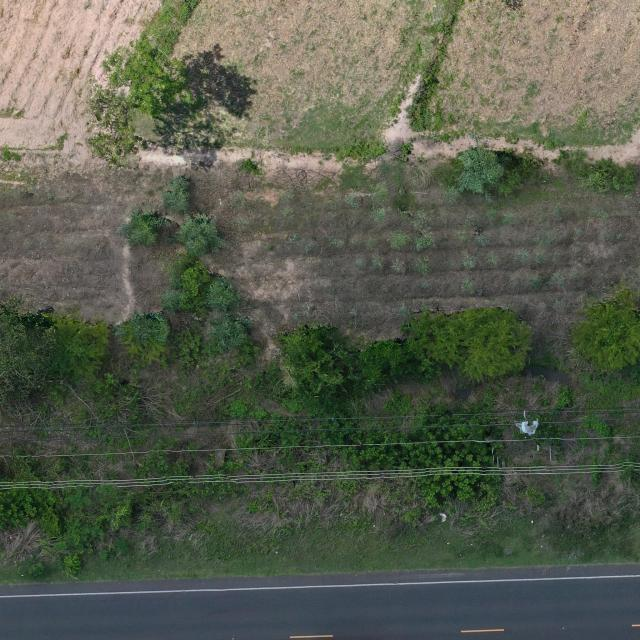Tree: (401, 306, 536, 384), (101, 31, 189, 120), (568, 284, 640, 378), (0, 292, 59, 404), (274, 322, 352, 404), (42, 308, 114, 384), (157, 250, 241, 314), (85, 85, 143, 175), (111, 312, 172, 366), (352, 338, 406, 396), (170, 213, 228, 260), (114, 204, 173, 247), (456, 146, 504, 194), (160, 175, 193, 212)
